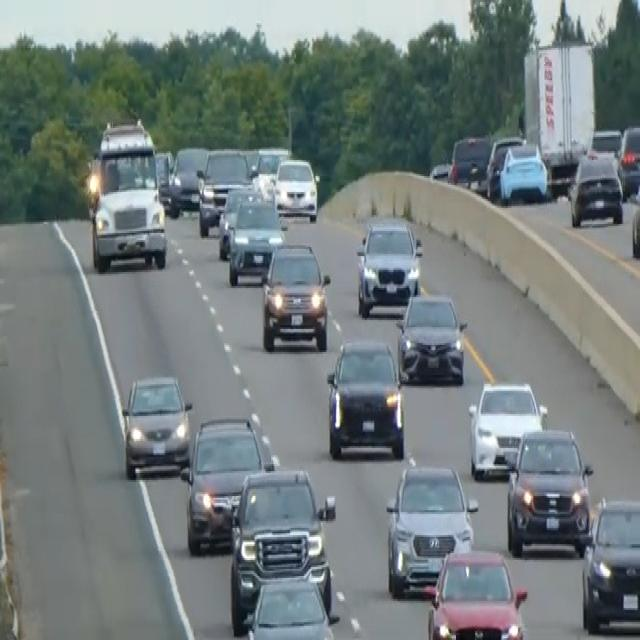car: (228, 464, 336, 633), (179, 412, 276, 554), (384, 459, 478, 597), (505, 425, 593, 556), (325, 336, 405, 460), (425, 546, 528, 638), (467, 377, 547, 480), (580, 494, 639, 633), (260, 240, 331, 352), (120, 372, 192, 478), (355, 215, 423, 317), (396, 290, 467, 386), (245, 574, 337, 638), (227, 194, 284, 286), (196, 146, 252, 236), (567, 150, 623, 228), (217, 182, 261, 260), (497, 140, 548, 204), (168, 144, 209, 217), (274, 154, 319, 220), (448, 132, 492, 190), (485, 134, 525, 196), (617, 123, 639, 197), (253, 144, 288, 187), (153, 148, 173, 208), (588, 126, 622, 158), (631, 167, 639, 261)
lorry: (84, 116, 168, 272)
truck: (521, 37, 599, 192)
